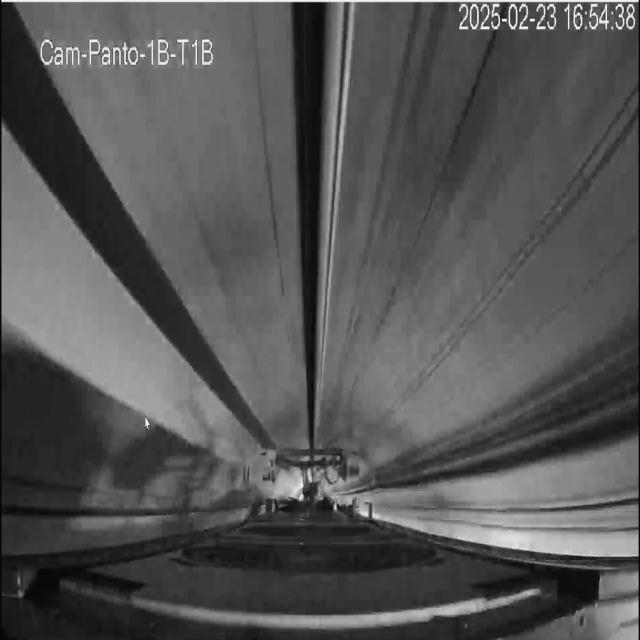Camera Stamp: (39, 33, 219, 68)
Date Stamp: (458, 3, 637, 33)
